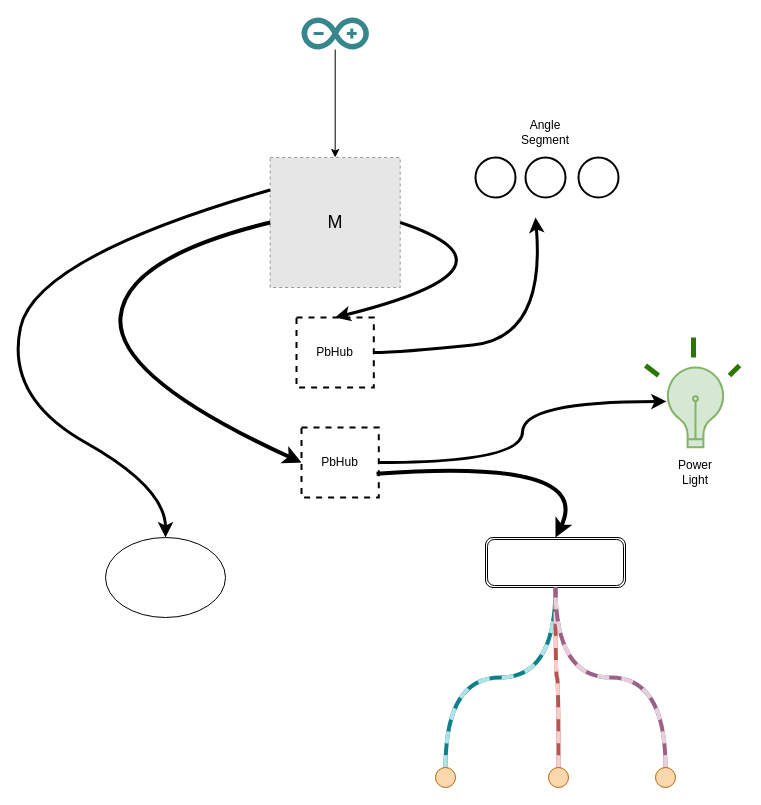
Image size: 761x805. Some labels were removed from this diagram. Grey dashed boxes stand in for pictures. Each missing label, with the centre of its shape:
"Apple I" goes at (x=165, y=577).
"Fillage x3" goes at (x=555, y=562).
